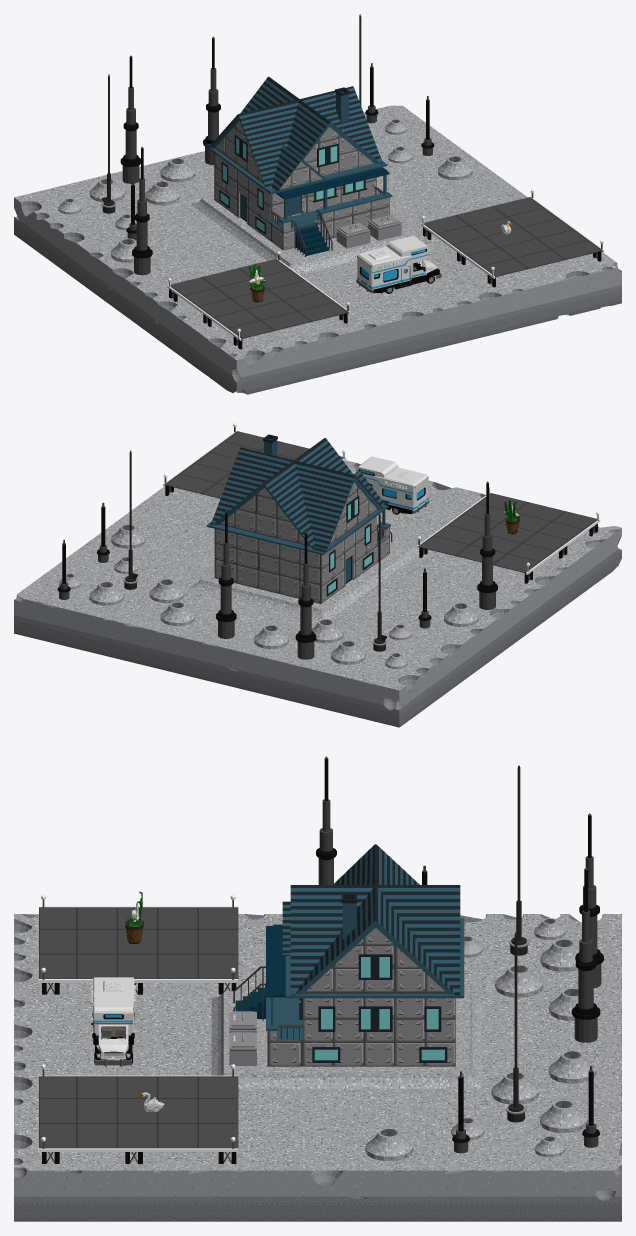
The picture shows the model from 3 angles, top to bottom: view 1: azimuth 30°, elevation 25°; view 2: azimuth 150°, elevation 25°; view 3: azimuth 270°, elevation 25°; orthographic projection. The views are drawn at different scales.
Visible parts, largest first — view 1: Cube.027, Cube.078, Cube.026, Cube.025, Cube.028, VEHICLES_CAMPER, Cylinder.020, Cylinder.021, Cylinder.017, Cube.029, Cube.030, Cylinder.027 (+3 smaller); view 2: Cube.027, Cube.078, Cube.025, Cube.028, Cube.026, VEHICLES_CAMPER, Cylinder.020, Cylinder.021, Cylinder.017, Cylinder.031, Cylinder.028, Cylinder.029 (+7 smaller); view 3: Cube.027, Cube.078, Cube.026, Cube.025, Cube.028, VEHICLES_CAMPER, Cylinder.017, Cylinder.020, Cylinder.021, Cylinder.033, Cylinder.031, Cylinder.029 (+9 smaller).
Part boxes in pixels (x1,y1,x2,y2): Cube.027: (14, 105, 621, 394); Cube.078: (205, 76, 392, 256); Cube.026: (421, 189, 604, 287); Cube.025: (167, 251, 350, 349); Cube.028: (191, 195, 424, 274); VEHICLES_CAMPER: (356, 236, 441, 293); Cylinder.020: (120, 55, 140, 183); Cylinder.021: (132, 146, 152, 275); Cylinder.017: (203, 36, 220, 164); Cube.029: (336, 222, 370, 248); Cube.030: (368, 215, 401, 240); Cylinder.027: (160, 158, 195, 182); Cube.027: (14, 460, 621, 727); Cube.078: (206, 434, 392, 603); Cube.025: (417, 485, 600, 583); Cube.028: (190, 538, 419, 620); Cube.026: (163, 423, 346, 498); VEHICLES_CAMPER: (355, 456, 429, 514); Cylinder.020: (295, 531, 316, 659); Cylinder.021: (477, 481, 497, 609); Cylinder.017: (216, 510, 236, 638); Cylinder.031: (89, 581, 124, 605); Cylinder.028: (331, 640, 365, 664); Cylinder.029: (160, 601, 195, 626); Cube.027: (14, 914, 621, 1221); Cube.078: (233, 844, 464, 1066); Cube.026: (39, 1064, 238, 1163); Cube.025: (39, 895, 238, 994); Cube.028: (211, 991, 481, 1088); VEHICLES_CAMPER: (91, 977, 135, 1066); Cylinder.017: (571, 867, 600, 1042); Cylinder.020: (575, 813, 603, 988); Cylinder.021: (316, 756, 336, 884); Cylinder.033: (365, 1128, 413, 1160); Cylinder.031: (540, 1100, 587, 1132); Cylinder.029: (548, 1050, 596, 1083).
Size of the model in its own units: 4000 by 1799 by 4000.
40 materials, 6 textured.
